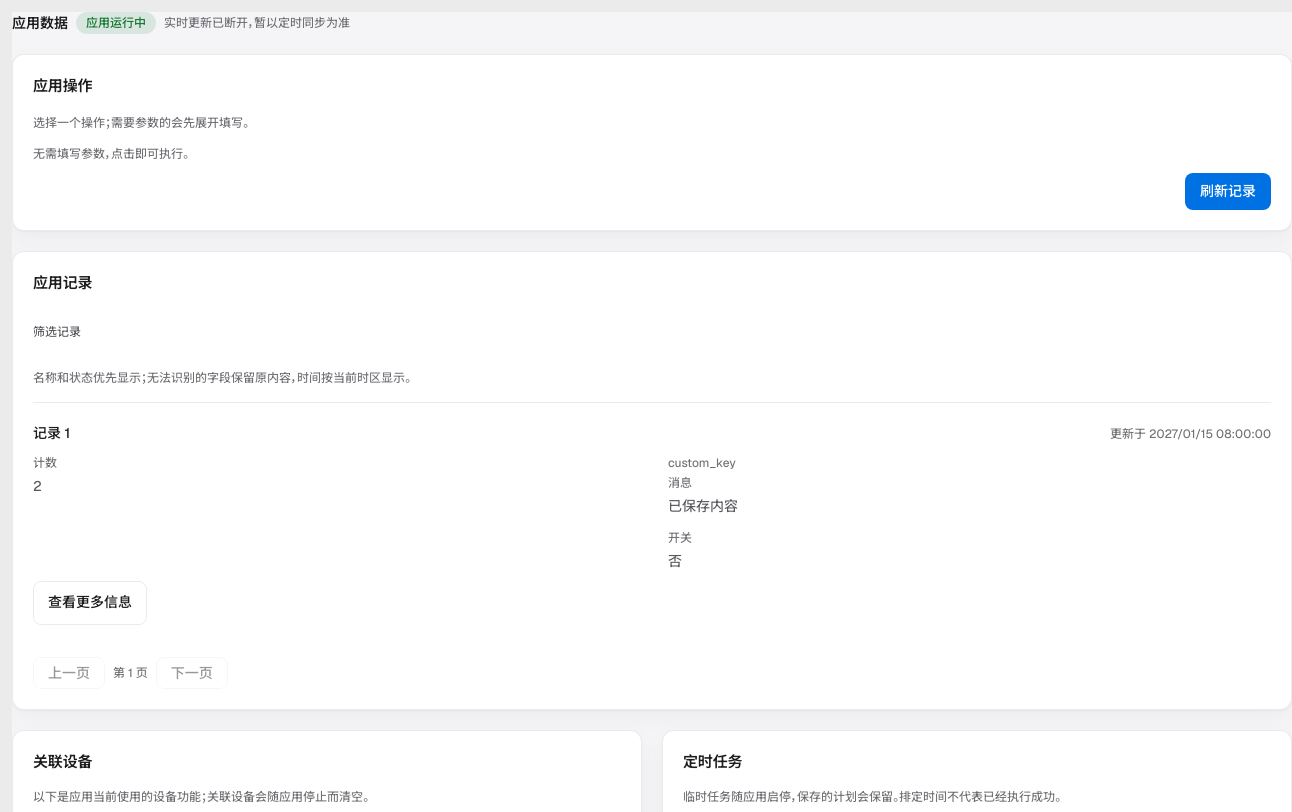
it: 应用操作只在明确用户请求时重试 › 离线点击不会排队等待恢复后偷偷执行，网络恢复也不重放失败 mutation
What coordinates should you click on to do the following:
click the button with aria-label "执行「刷新记录」"
I would click on:
 (1228, 191)
Its box is [1185, 172, 1271, 210].
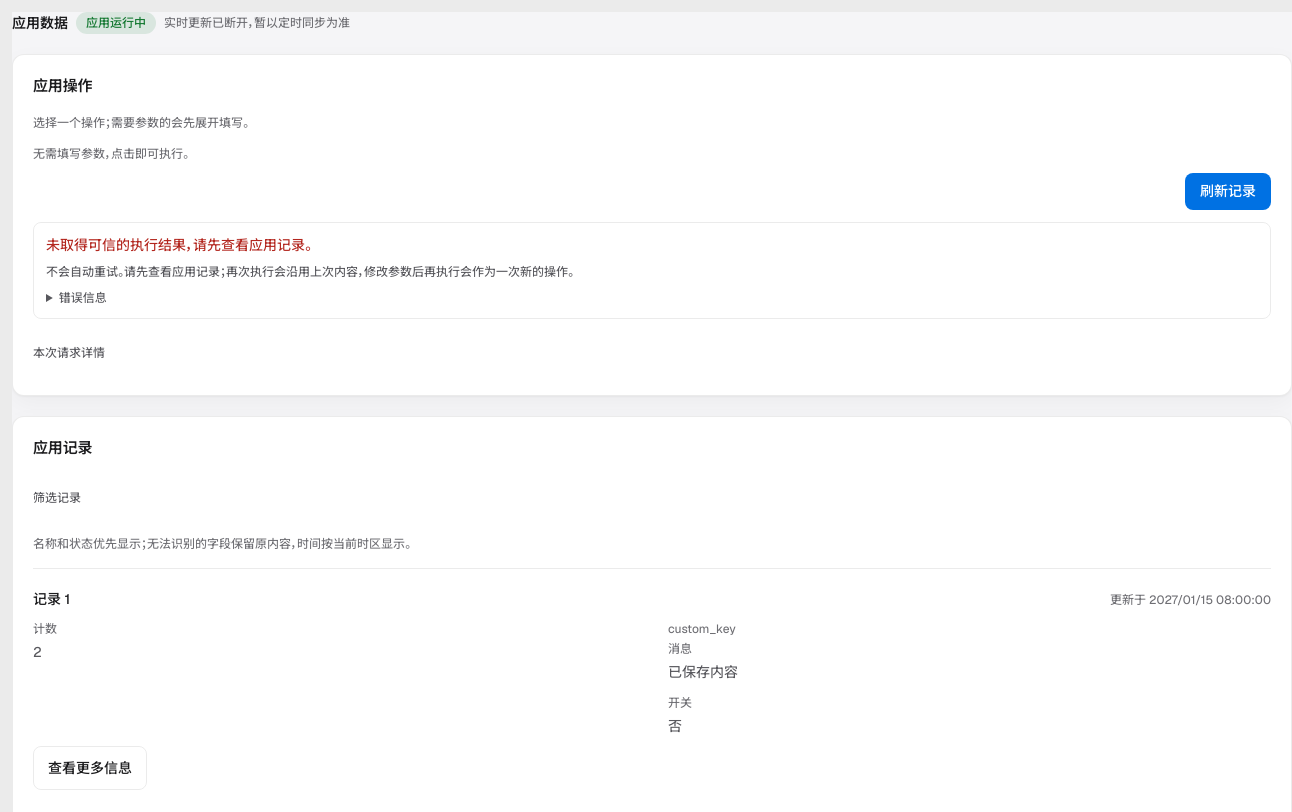
Expected: the text "未取得可信的执行结果，请先查看应用记录。" is shown, [46, 236, 312, 254]
